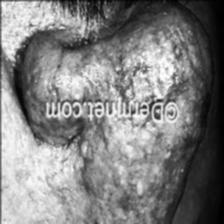Non-Cancerous Skin Condition: (23, 51, 200, 223)
